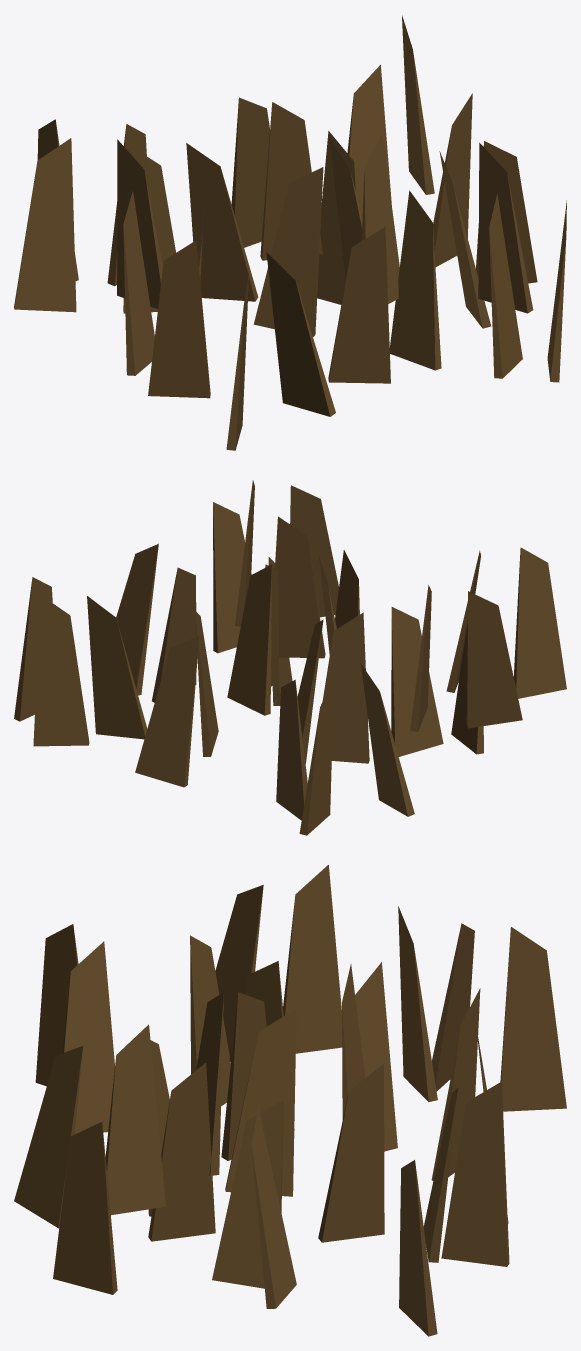
The model's file is Grass_Large_Extra_GustyCliffs.fbx.
3 renders of one model, top to bottom at view 1: azimuth 30°, elevation 25°; view 2: azimuth 150°, elevation 25°; view 3: azimuth 270°, elevation 25°, orthographic. The views are drawn at different scales.
Visible parts, largest first — view 1: Grass_Extra_Large_01; view 2: Grass_Extra_Large_01; view 3: Grass_Extra_Large_01.
Part boxes in pixels (<box>): Grass_Extra_Large_01: <box>14,15,566,450</box>; Grass_Extra_Large_01: <box>14,480,566,835</box>; Grass_Extra_Large_01: <box>14,865,566,1336</box>.
Size of the model in its own units: 85.08 by 44.14 by 84.38.
